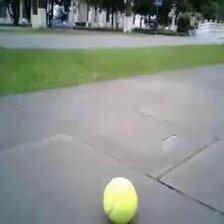tennis: (102, 177, 138, 224)
